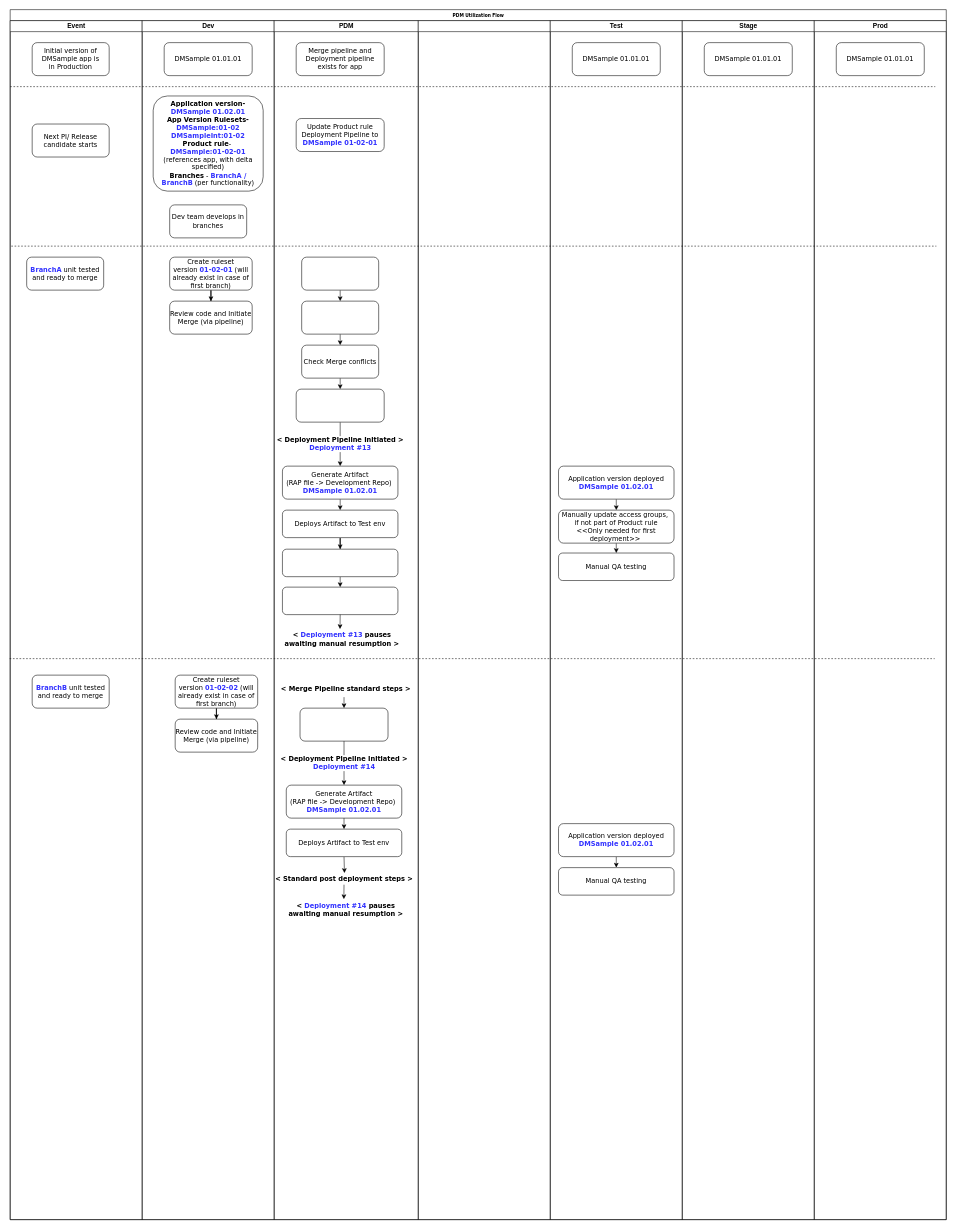
This 956x1229 diagram has some shape labels left out. The shapes that lost their labels are listed below. From the top down, each one's centre as x and y in pixels, then its label:
At (340,273): "Check Branch Guardrails".
At (340,317): "Check Review Status (optional but desired)".
At (340,405): "Merge (set to merge in highest ruleset) BranchA -> 01-02-01".
At (340,563): "Run Test cases (optional but desired)".
At (340,601): "Check test coverage (optional but desired)".
At (484,620): "Jenkins".
At (343,724): "Merge (set to merge in highest ruleset) BranchB -> 01-02-02".
